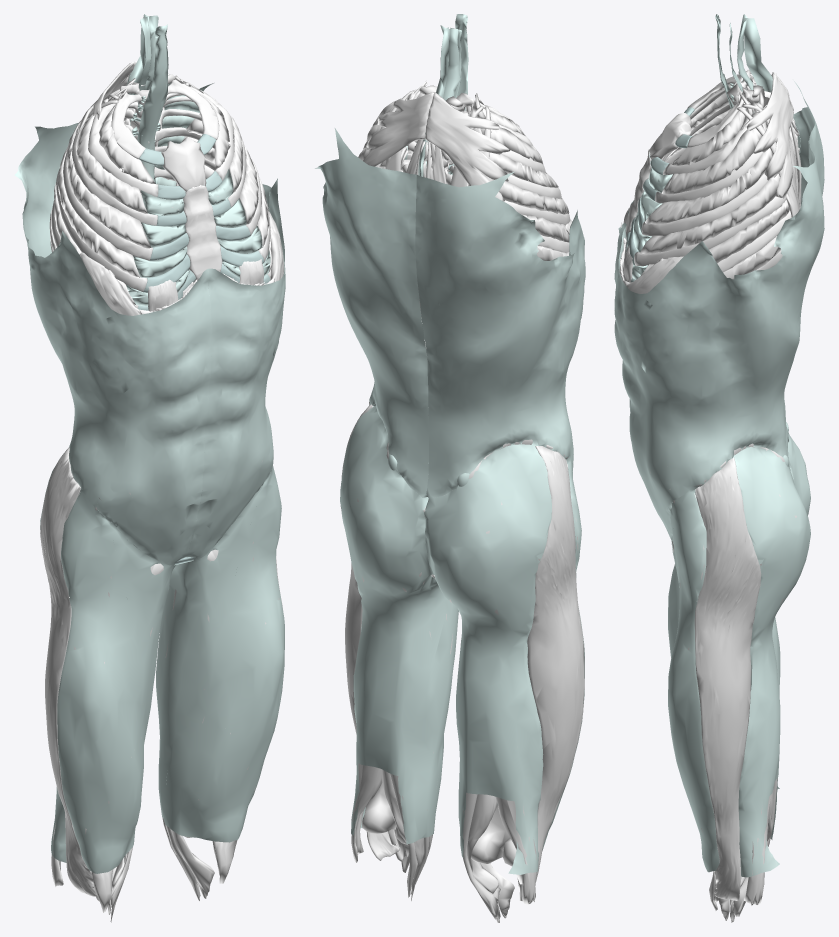
Rendered from lumbar.glb.
3 views of the same model, side by side, from view 1: azimuth 30°, elevation 25°; view 2: azimuth 150°, elevation 25°; view 3: azimuth 270°, elevation 25° (orthographic).
Parts seen in each view (by area): view 1: Investing abdominal fascia.r, Fascia lata.l, Fascia lata.r, Investing abdominal fascia.l, External intercostal muscles.r, Iliotibial tract.r, External intercostal muscles.l, External intercostal membrane.r, Body of sternum, Anterior longitudinal ligament, External intercostal membrane.l, Manubrium of sternum (+19 smaller); view 2: Investing abdominal fascia.r, Fascia lata.r, Fascia lata.l, Investing abdominal fascia.l, Iliotibial tract.r, Serratus posterior superior muscle.r, External intercostal muscles.r, Serratus posterior superior muscle.l, Iliotibial tract.l, Semimembranosus muscle.r, Femur.r, Long head of biceps femoris.r (+9 smaller); view 3: Investing abdominal fascia.l, Fascia lata.l, Iliotibial tract.l, External intercostal muscles.l, Serratus posterior superior muscle.l, Fascia lata.r, Investing abdominal fascia.r, Fourth rib.l, Fifth rib.l, Interspinous ligaments, External intercostal membrane.l, Third rib.l (+11 smaller).
Part boxes in pixels (left/top/right/bottom): Investing abdominal fascia.r: left=14, top=123, right=211, bottom=565; Fascia lata.l: left=156, top=462, right=284, bottom=842; Fascia lata.r: left=40, top=453, right=175, bottom=873; Investing abdominal fascia.l: left=186, top=83, right=285, bottom=558; External intercostal muscles.r: left=49, top=103, right=155, bottom=304; Iliotibial tract.r: left=40, top=447, right=96, bottom=896; External intercostal muscles.l: left=162, top=86, right=272, bottom=272; External intercostal membrane.r: left=126, top=190, right=189, bottom=306; Body of sternum: left=183, top=185, right=222, bottom=281; Anterior longitudinal ligament: left=137, top=24, right=168, bottom=183; External intercostal membrane.l: left=208, top=169, right=270, bottom=277; Manubrium of sternum: left=161, top=137, right=206, bottom=191; Investing abdominal fascia.r: left=415, top=171, right=585, bottom=499; Fascia lata.r: left=424, top=444, right=584, bottom=874; Fascia lata.l: left=340, top=406, right=458, bottom=844; Investing abdominal fascia.l: left=315, top=128, right=428, bottom=497; Iliotibial tract.r: left=527, top=446, right=584, bottom=881; Serratus posterior superior muscle.r: left=425, top=93, right=510, bottom=201; External intercostal muscles.r: left=471, top=106, right=569, bottom=260; Serratus posterior superior muscle.l: left=363, top=92, right=433, bottom=166; Iliotibial tract.l: left=340, top=404, right=399, bottom=860; Semimembranosus muscle.r: left=460, top=640, right=498, bottom=893; Femur.r: left=471, top=805, right=516, bottom=866; Long head of biceps femoris.r: left=495, top=796, right=536, bottom=904; Investing abdominal fascia.l: left=614, top=142, right=824, bottom=538; Fascia lata.l: left=668, top=447, right=810, bottom=877; Iliotibial tract.l: left=694, top=457, right=761, bottom=900; External intercostal muscles.l: left=640, top=103, right=789, bottom=279; Serratus posterior superior muscle.l: left=740, top=73, right=793, bottom=198; Fascia lata.r: left=668, top=433, right=810, bottom=788; Investing abdominal fascia.r: left=614, top=81, right=824, bottom=467; Fourth rib.l: left=641, top=173, right=767, bottom=236; Fifth rib.l: left=634, top=196, right=786, bottom=266; Interspinous ligaments: left=744, top=18, right=799, bottom=154; External intercostal membrane.l: left=626, top=168, right=672, bottom=279; Third rib.l: left=655, top=151, right=763, bottom=203.
Size of the model in its own units: 0.3415 by 1.2 by 0.2571.
